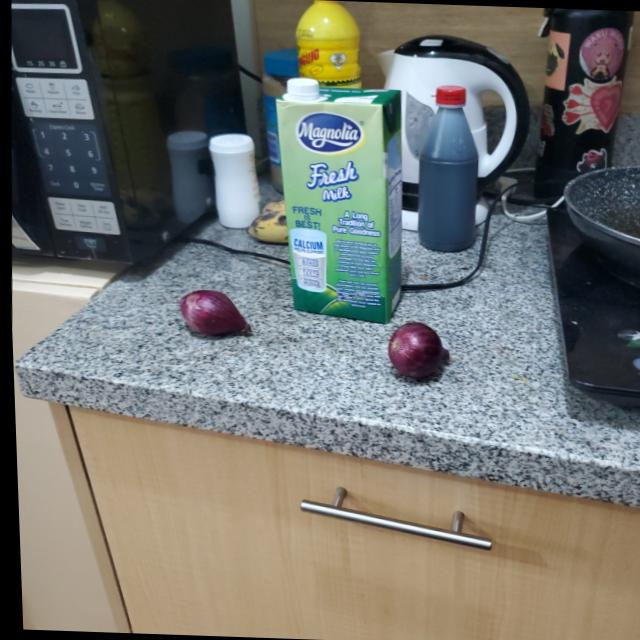milk: (265, 76, 405, 320)
onion: (382, 320, 448, 384), (176, 285, 244, 342)
